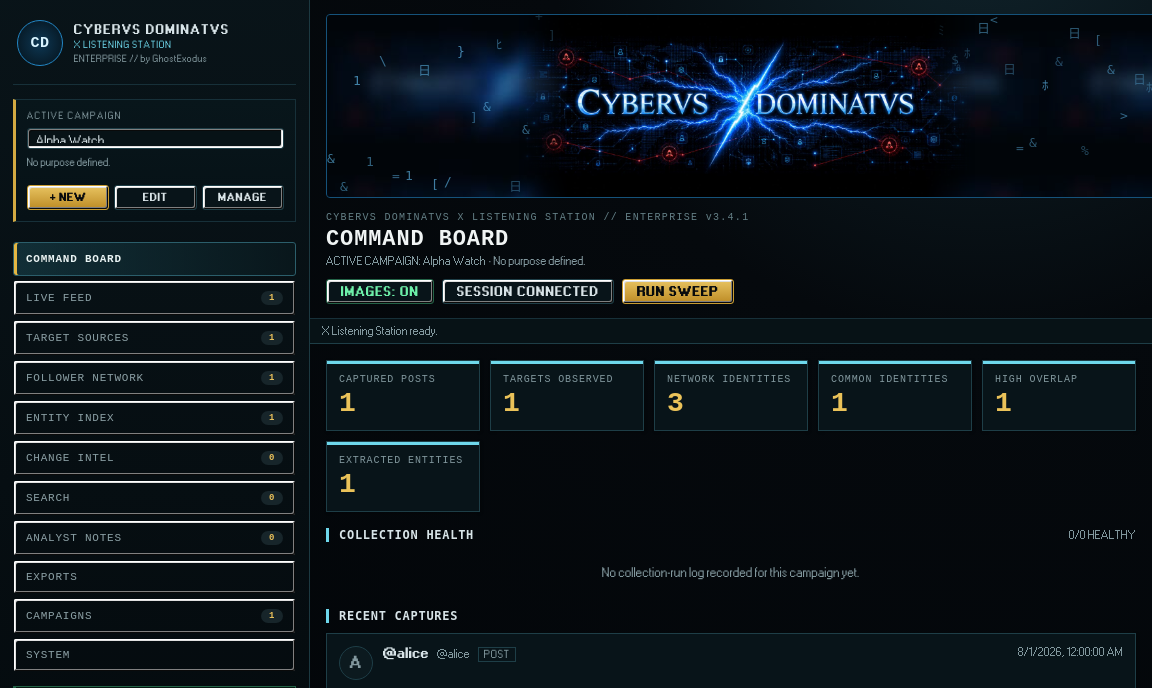
X Listening Station tabs (Task 14) › network tab renders the real analysis graph/stats from the analysis channel
Click the button with class "xls-tab" showing "FOLLOWER NETWORK 1".
click(85, 378)  # box [13, 360, 296, 396]
(page scrolled)
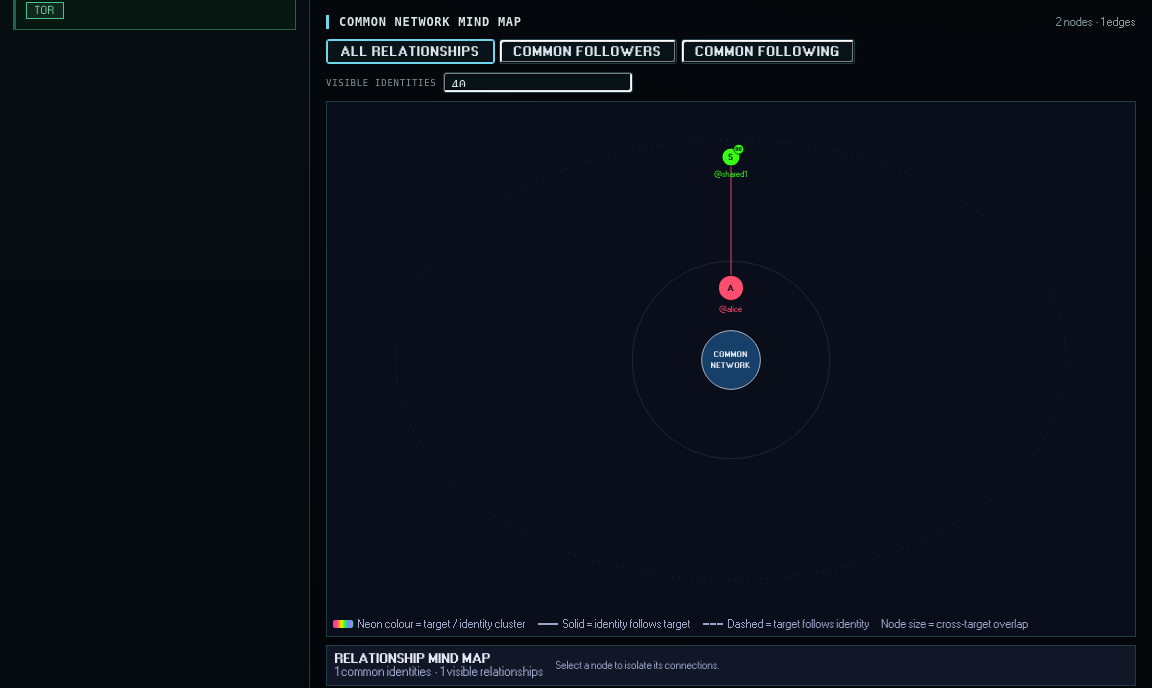
Expected: the text "shared1" is shown, [715, 170, 747, 179]
Expected: the text "COMMON FOLLOWER" is shown, [499, 39, 677, 64]
Expected: the text "COMMON NETWORK MIND MAP" is shown, [326, 15, 522, 29]
